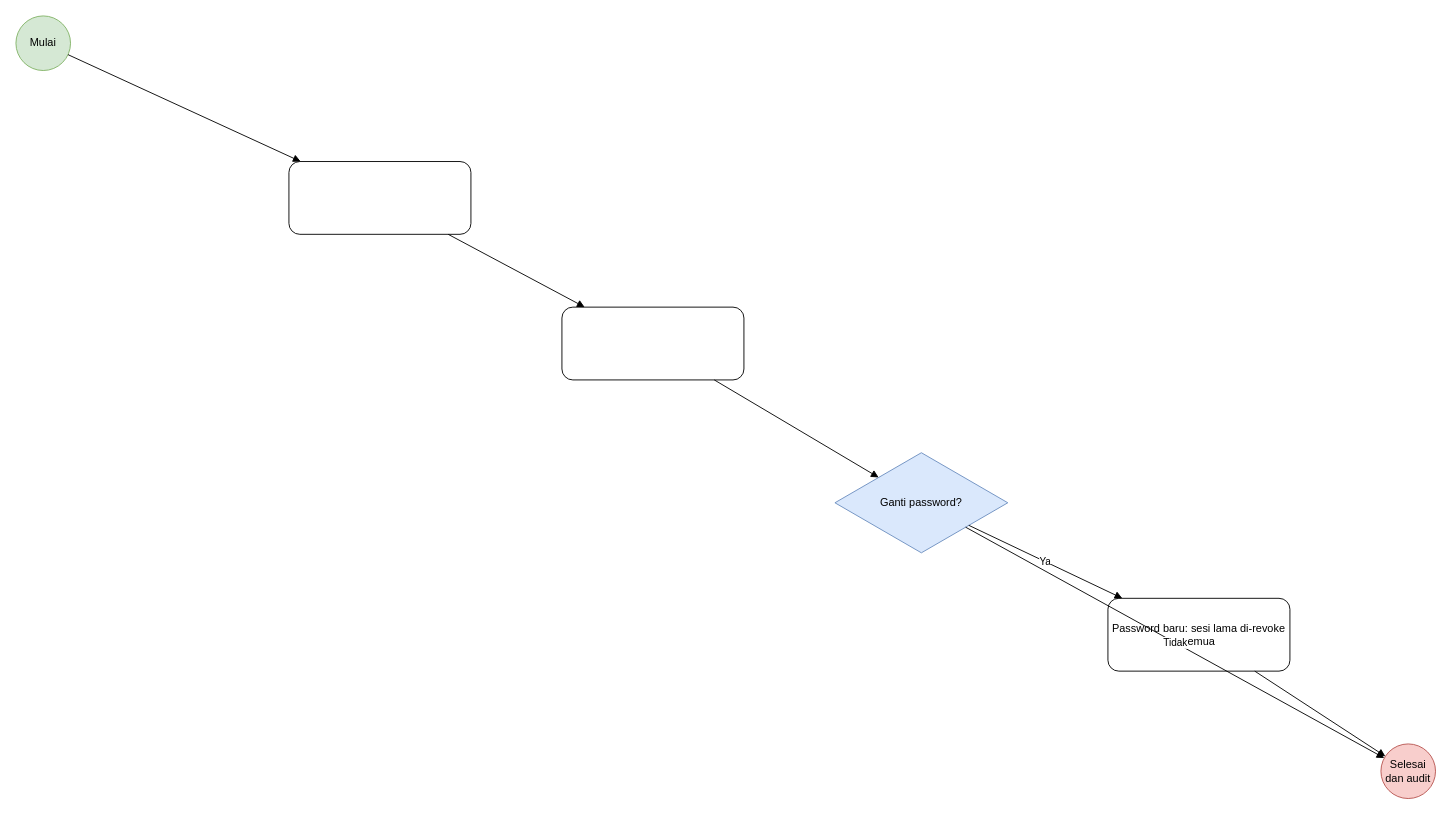
The diagram is 1451 pixels wide and 814 high, and some of its shapes have lost their labels. Here are the shapes that lost their labels. From the top down, the centre of each, then its label:
pixel 379 197: Admin buat akun: email unik + role
pixel 652 343: Akun aktif; password awal wajib diganti
